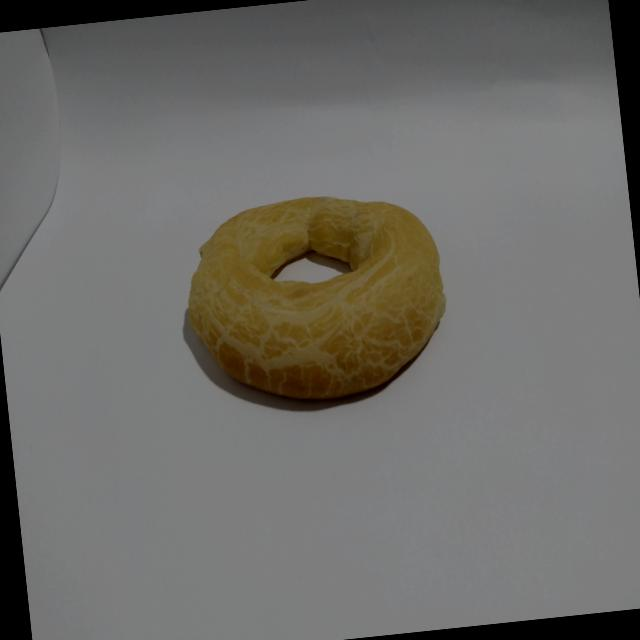Chipa: (156, 168, 467, 431)
